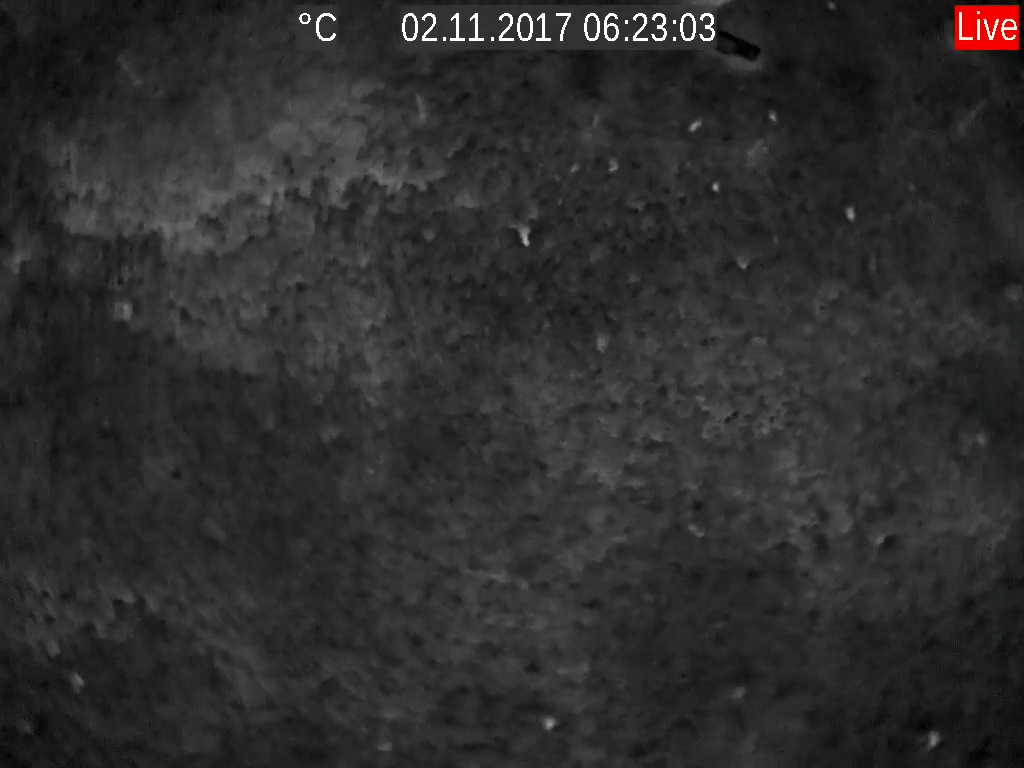warren: (513, 221, 538, 250), (685, 113, 708, 136), (840, 199, 859, 223)
